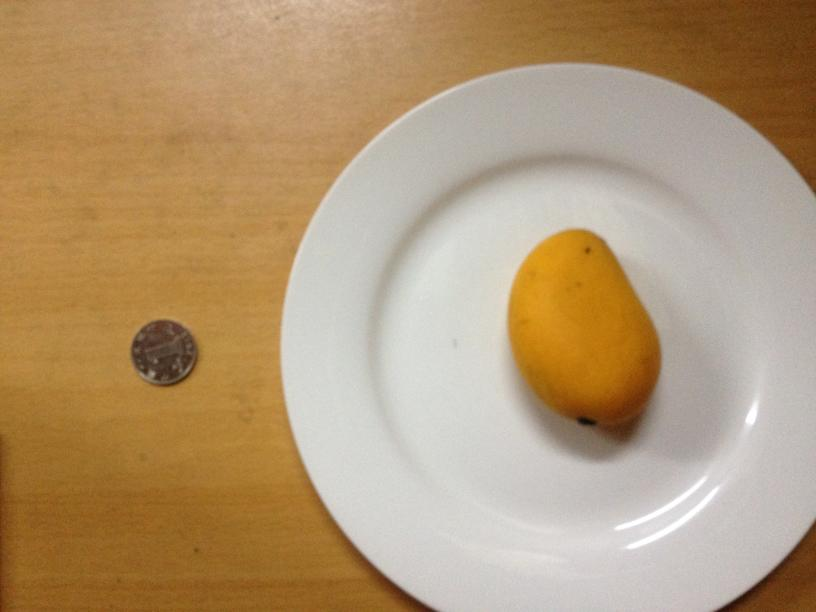coin: (127, 316, 198, 386)
mango: (510, 228, 660, 425)
